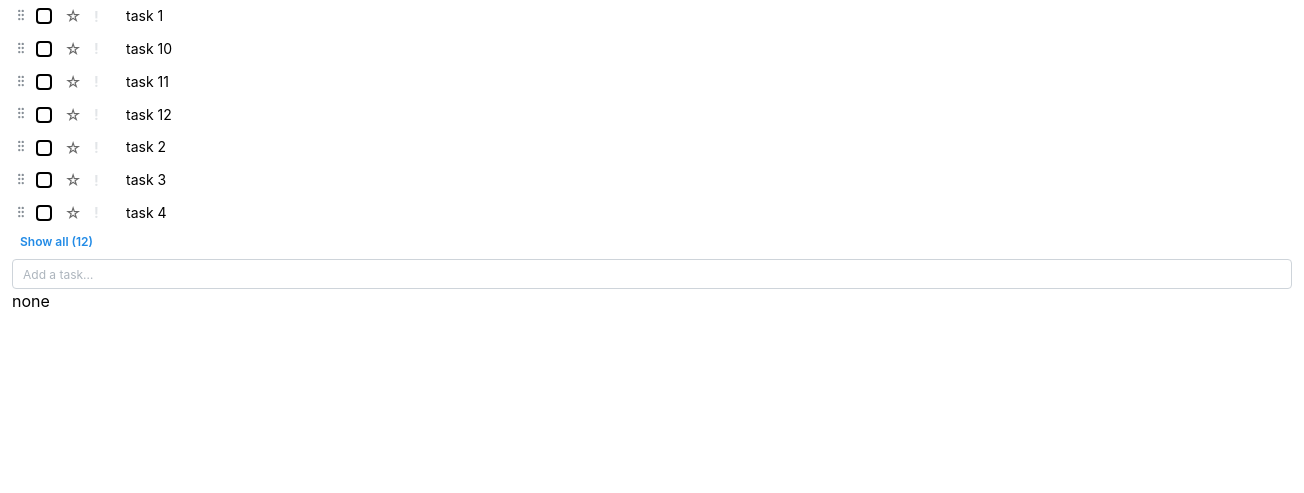
Scenario: TaskList expand footer › Show less keeps the same button, and its focus
Click the button "Show all (12)": [57, 242] box [12,231,1292,253]
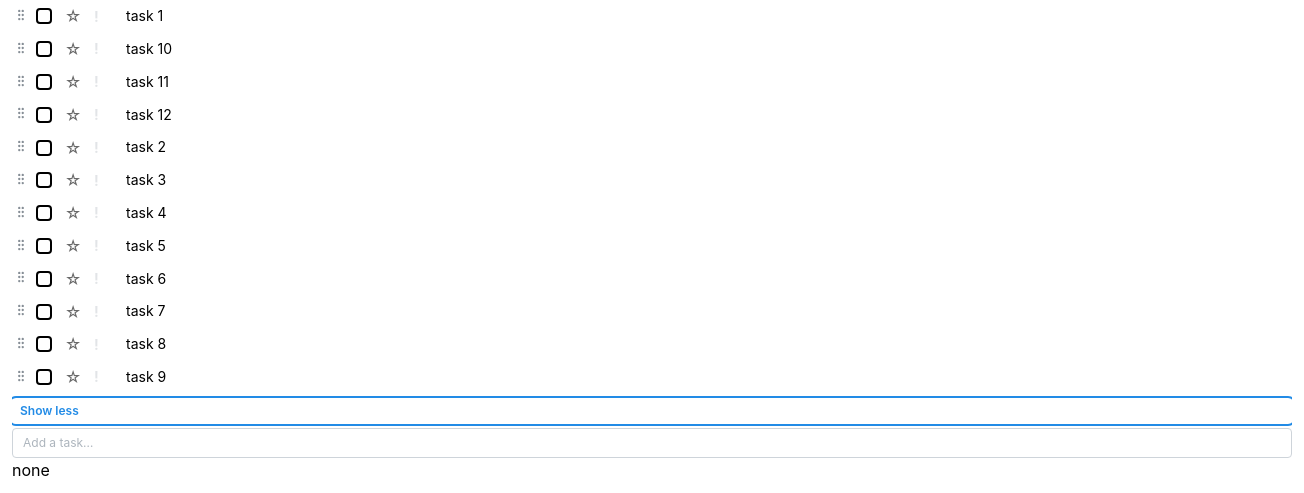
Expected: the button named "Show all (12)" reads "Show less"
Click the button named "Show all (12)": [49, 410] box [12,400,1292,422]
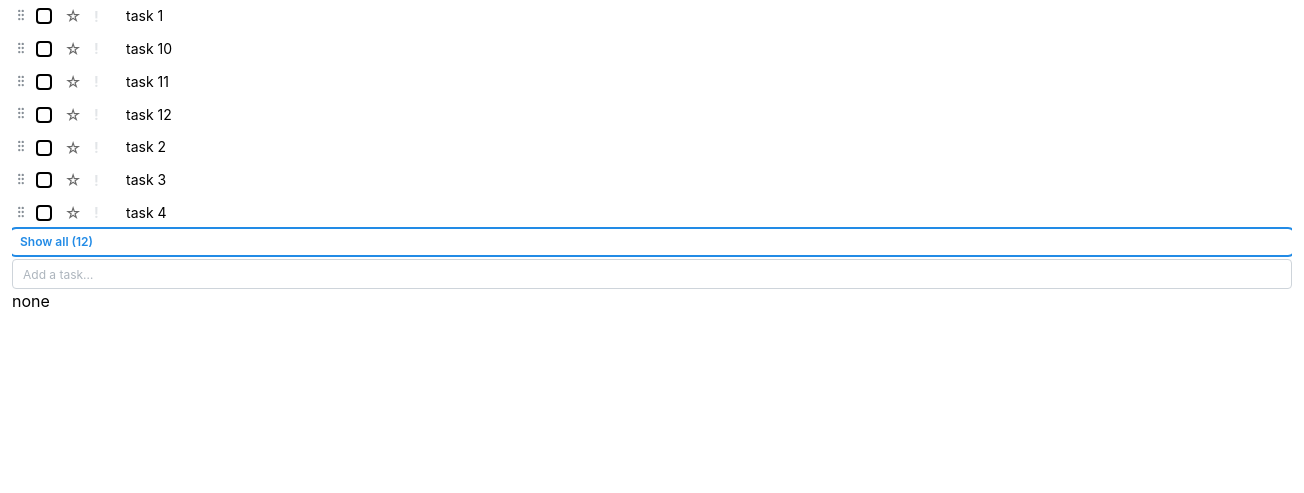
Expected: the button "Show all (12)" is shown, [12,231,1292,253]
